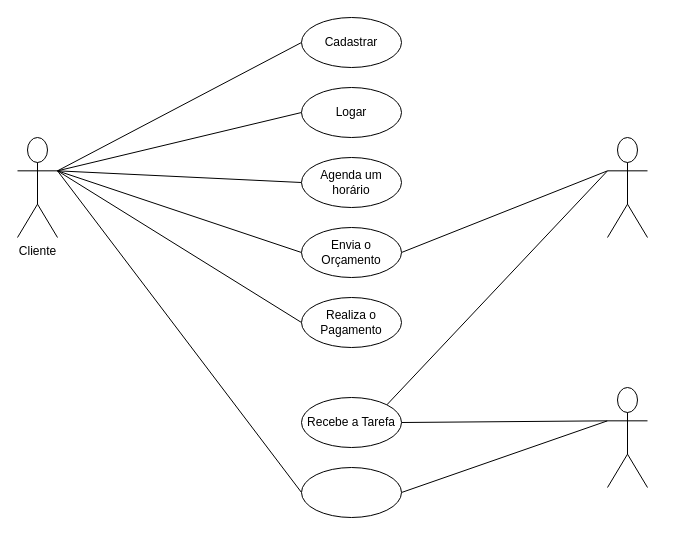
The diagram is 680 pixels wide and 535 high, and some of its shapes have lost their labels. Each missing label, with the centre of its shape:
Consultor N1: the point at 627,187
Consultor N2: the point at 627,437
Pede Correção: the point at 351,492
